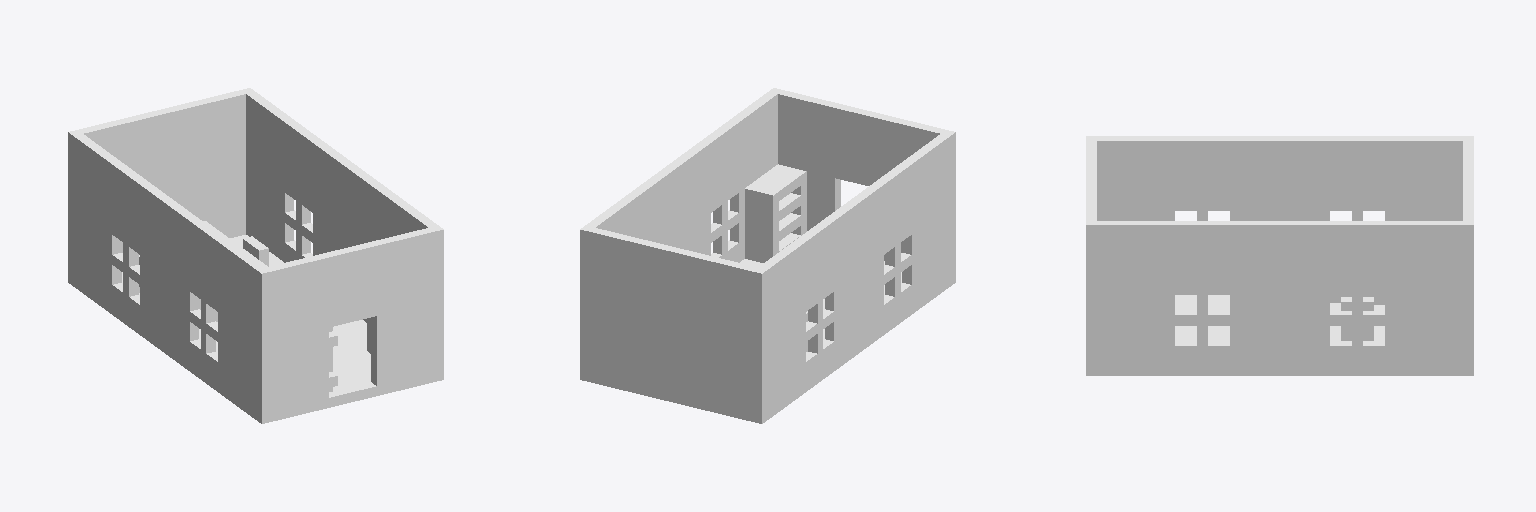
File: murs_maison_ville_riche_1.obj
The picture shows the model from 3 angles: view 1: azimuth 30°, elevation 25°; view 2: azimuth 150°, elevation 25°; view 3: azimuth 270°, elevation 25°; orthographic projection.
Visible parts, largest first — view 1: murs_maison_ville_riche_1; view 2: murs_maison_ville_riche_1; view 3: murs_maison_ville_riche_1.
Part boxes in pixels (x1,y1,x2,y2): murs_maison_ville_riche_1: (68,88,443,423); murs_maison_ville_riche_1: (580,88,955,423); murs_maison_ville_riche_1: (1086,136,1473,375).
Size of the model in its own units: 19 by 15 by 35.